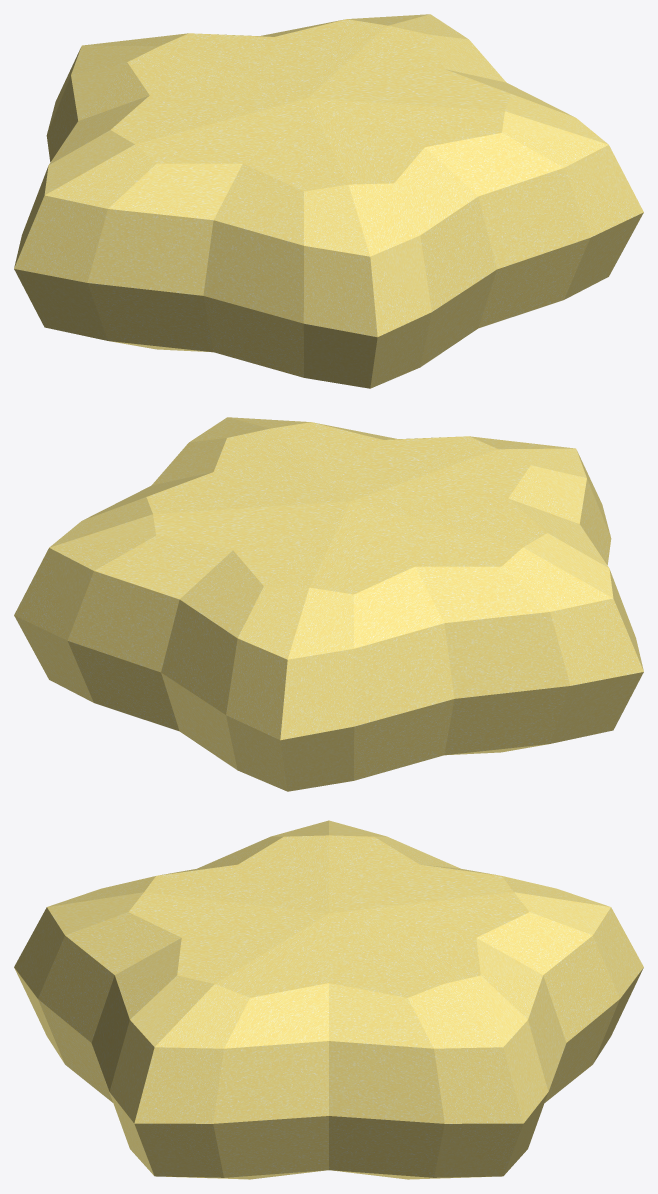
File: star.fbx
The picture shows the model from 3 angles, top to bottom: view 1: azimuth 30°, elevation 25°; view 2: azimuth 150°, elevation 25°; view 3: azimuth 270°, elevation 25°; orthographic projection. The views are drawn at different scales.
Parts seen in each view (by area): view 1: Star; view 2: Star; view 3: Star.
Part boxes in pixels (x1,y1,x2,y2): Star: (14, 14, 643, 388); Star: (14, 417, 643, 791); Star: (14, 820, 643, 1179).
Bounding box in the file's own units: 140 × 50 × 147.
